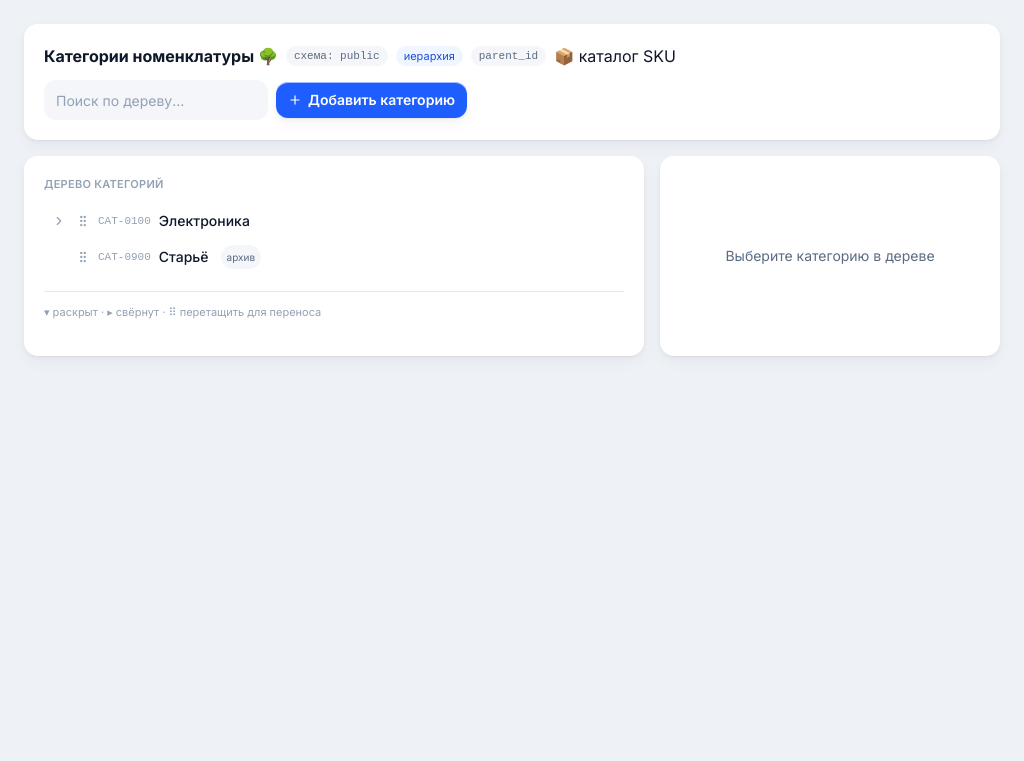
Test: SpravCategories › товары выбранной группы подгружаются и рендерятся ссылками
What coordinates should you click on to do the following:
click the text "Электроника"
I would click on:
 (204, 220)
Its box is [159,210,250,230].
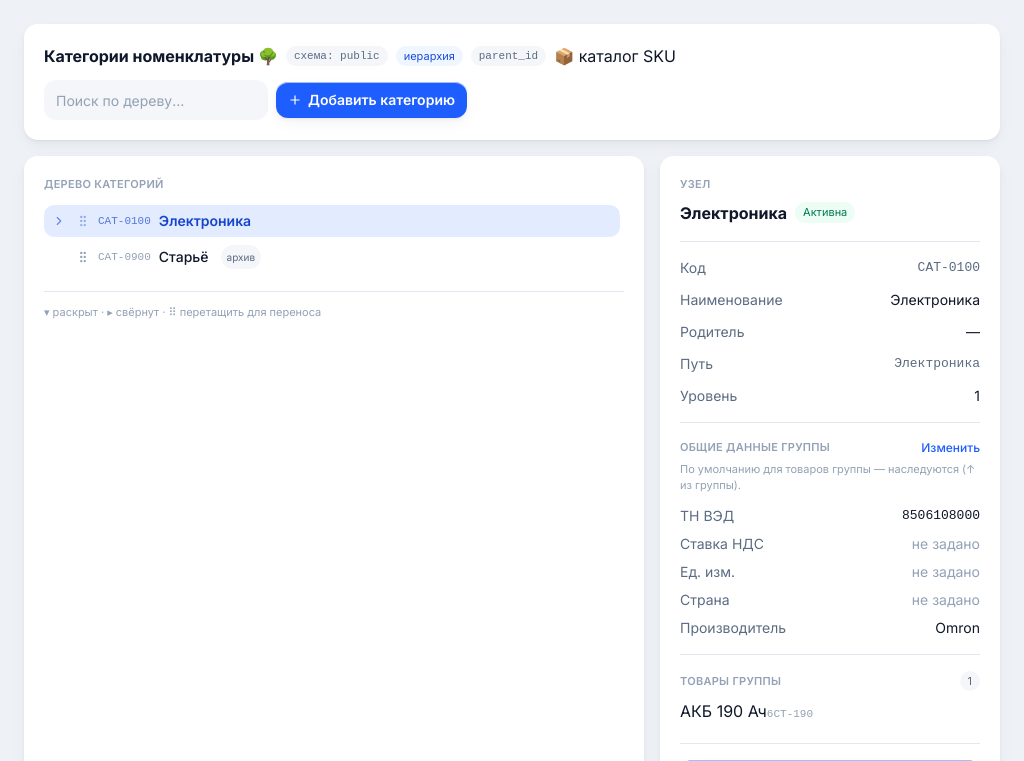
Result: the text "АКБ 190 Ач" is shown at [680,701,767,721]
